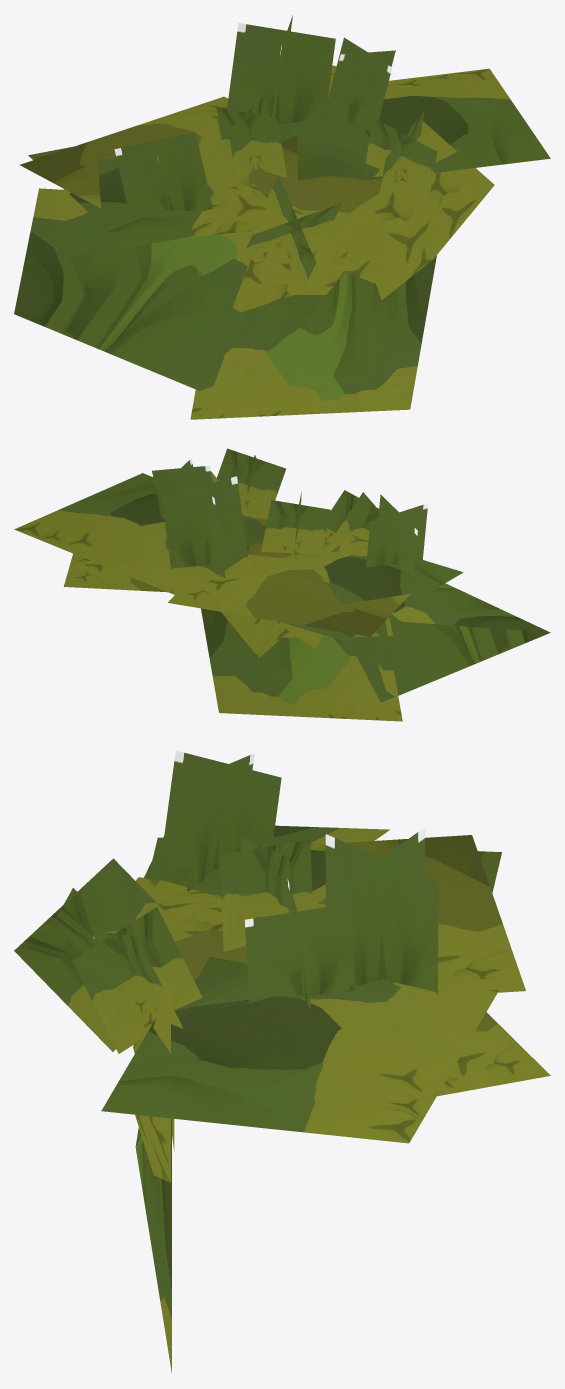
The model's file is SM_Env_Ground_Cover_06.fbx.
3 views of the same model, one above another, from view 1: azimuth 30°, elevation 25°; view 2: azimuth 150°, elevation 25°; view 3: azimuth 270°, elevation 25° (orthographic). The views are drawn at different scales.
Parts seen in each view (by area): view 1: SM_Env_Ground_Cover_06; view 2: SM_Env_Ground_Cover_06; view 3: SM_Env_Ground_Cover_06.
Part boxes in pixels (x1=…): SM_Env_Ground_Cover_06: x1=14, y1=15, x2=550, y2=419; SM_Env_Ground_Cover_06: x1=14, y1=448, x2=550, y2=721; SM_Env_Ground_Cover_06: x1=14, y1=750, x2=550, y2=1372.
Size of the model in its own units: 216 by 126 by 126.
